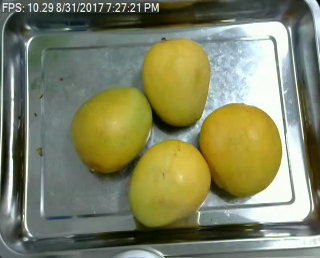Mango: (199, 103, 283, 192), (70, 87, 151, 178), (129, 140, 211, 228), (141, 38, 211, 126)
